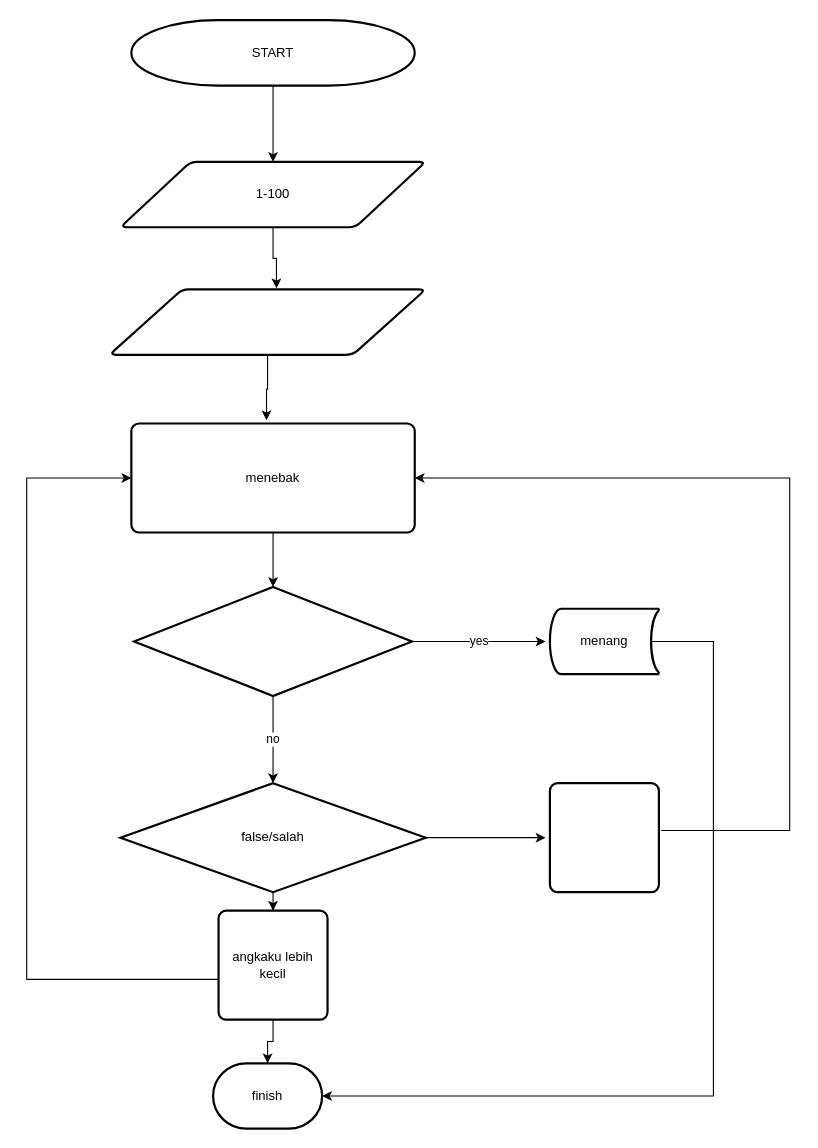
The diagram is 818 pixels wide and 1148 high, and some of its shapes have lost their labels. The shapes that lost their labels are listed below. From the top down, each one's centre as x and y in pixels, then its label:
At [267,321]: "tebak".
At [272,641]: "tebak=angka".
At [603,837]: "angkaku lebih besar".
